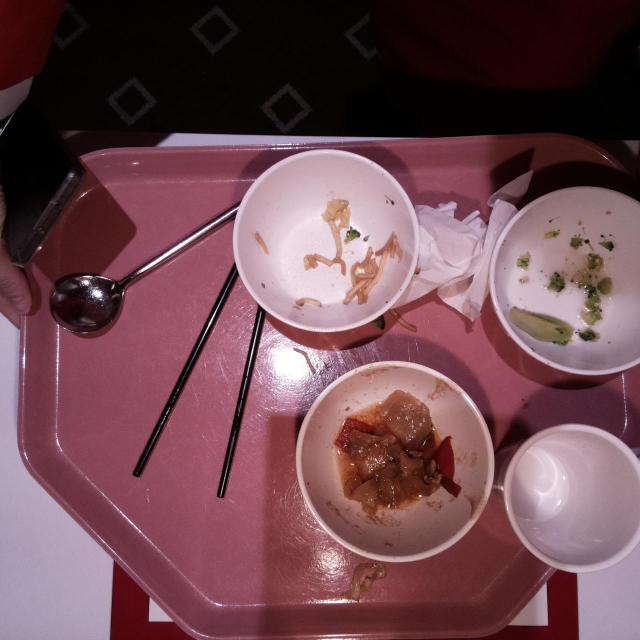Meat: (378, 459, 442, 506)
Vegetable: (509, 302, 573, 347)
